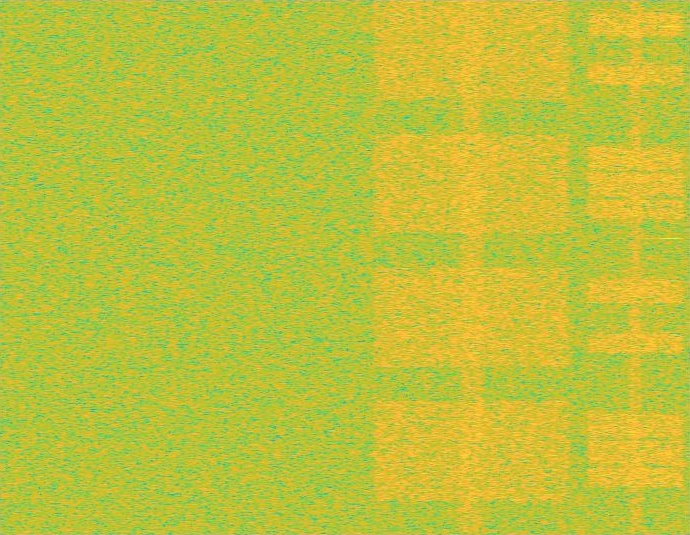5G: (368, 0, 575, 534)
DSSS: (458, 0, 486, 534), (629, 0, 643, 534)
LTE: (584, 0, 688, 534)
Radar: (664, 0, 678, 534)
